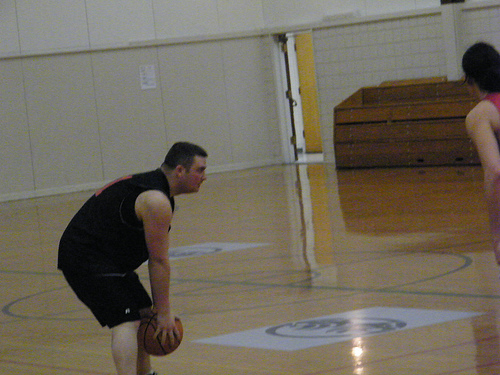basketball: (138, 311, 183, 356)
